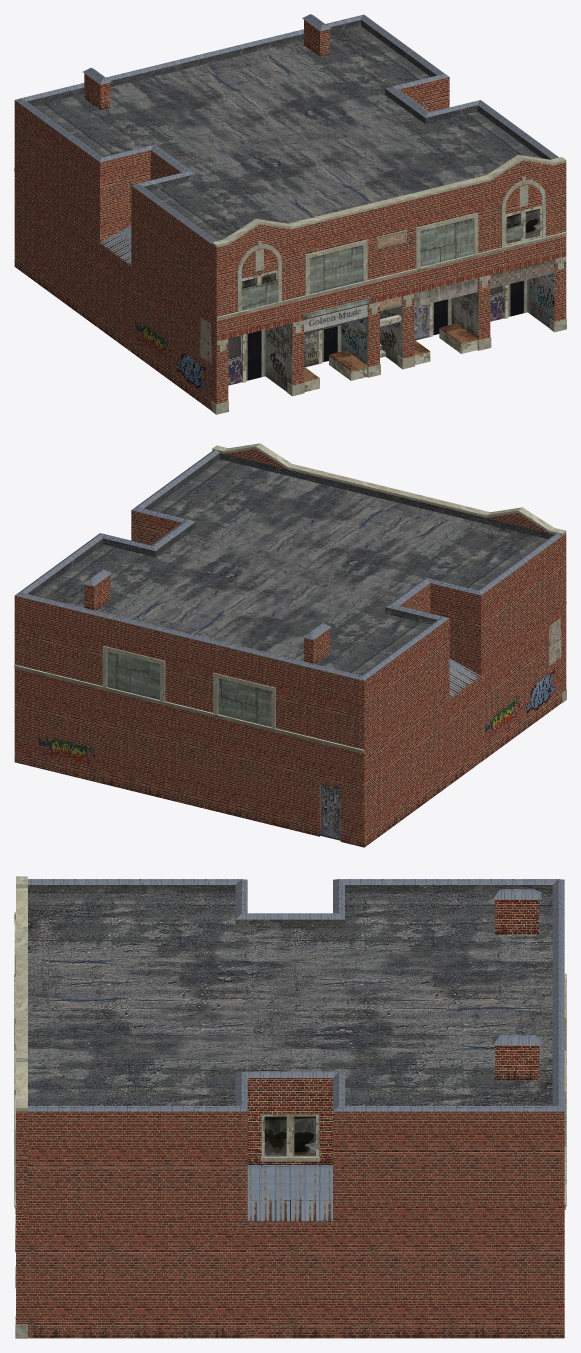
File: derelictBrickHouse.fbx
The picture shows the model from 3 angles, top to bottom: view 1: azimuth 30°, elevation 25°; view 2: azimuth 150°, elevation 25°; view 3: azimuth 270°, elevation 25°; orthographic projection. The views are drawn at different scales.
Parts seen in each view (by area): view 1: derelictBrickHouse; view 2: derelictBrickHouse; view 3: derelictBrickHouse.
Part boxes in pixels (x1,y1,x2,y2): derelictBrickHouse: [14, 14, 566, 414]; derelictBrickHouse: [14, 443, 566, 847]; derelictBrickHouse: [14, 876, 566, 1338].
Size of the model in its own units: 612 by 319 by 615.
1 material, 1 textured.
